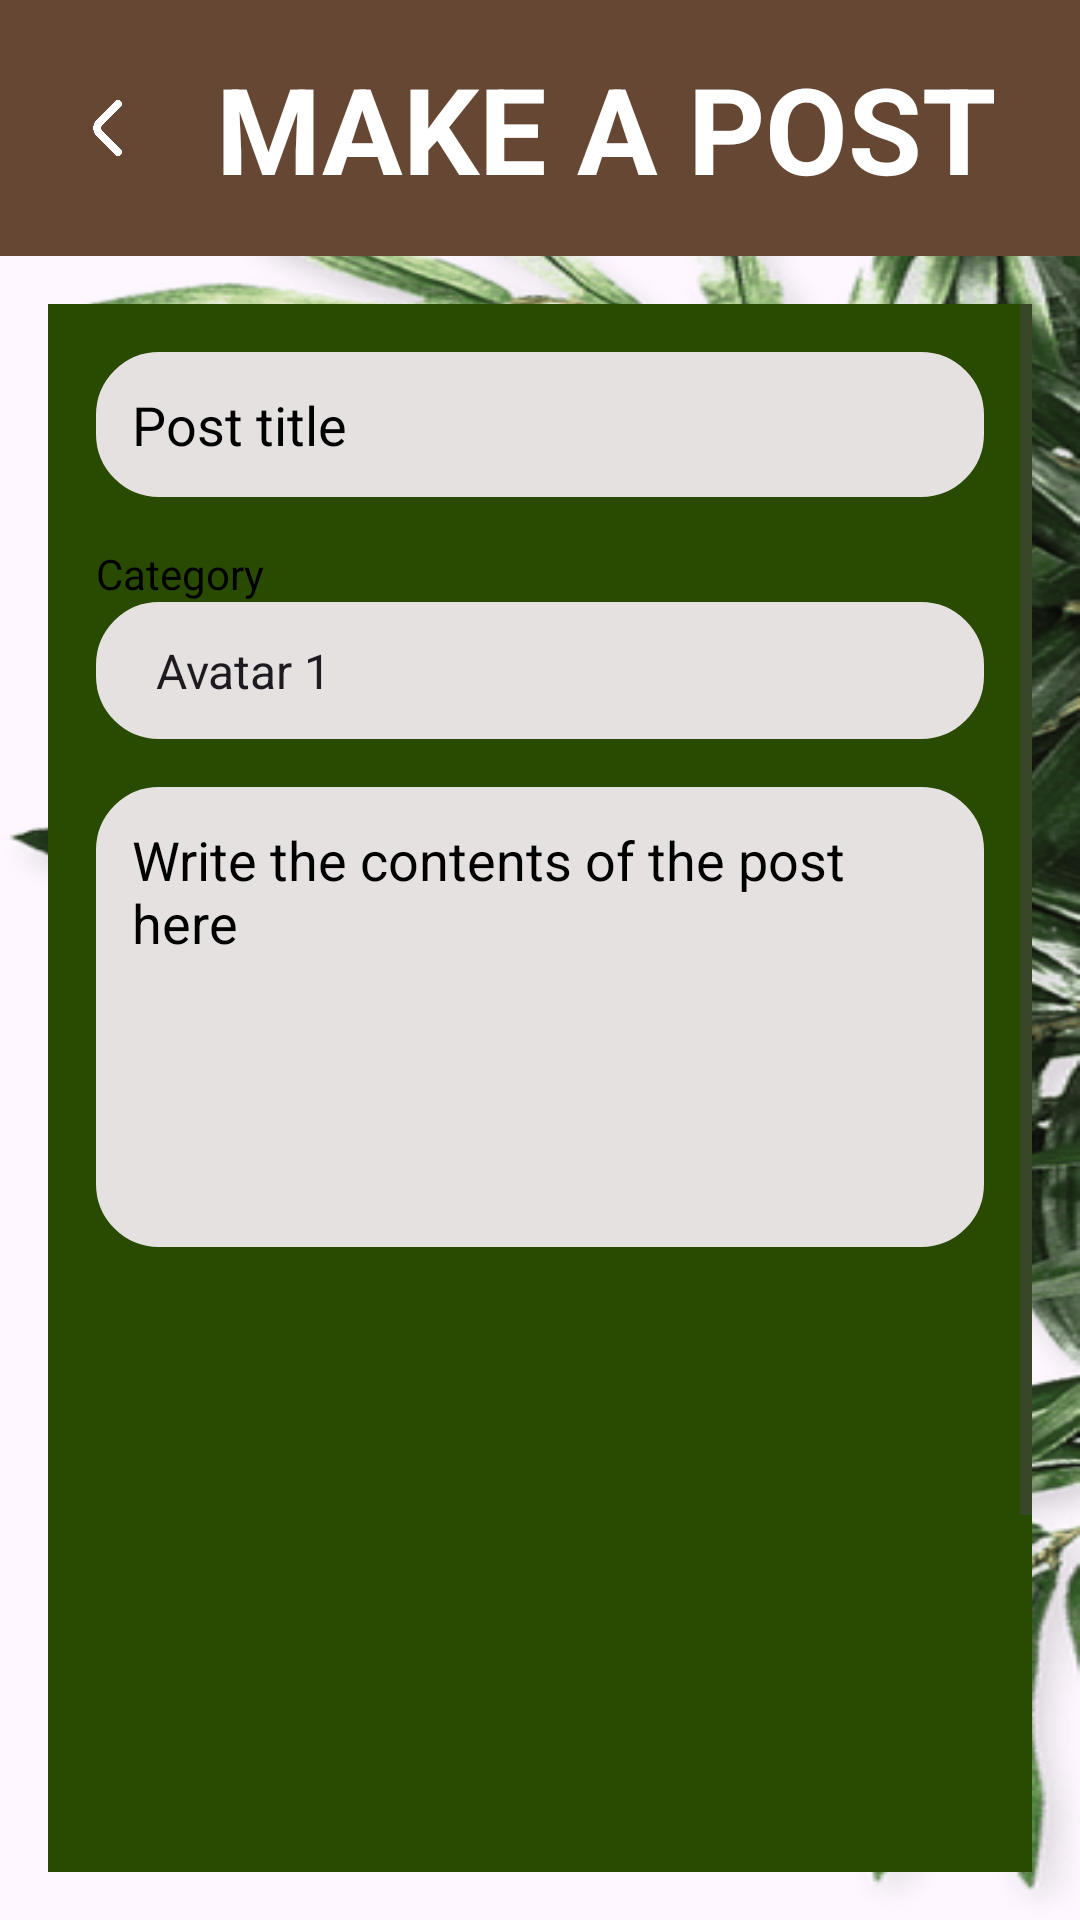

Icons on this 1080*1920 Android screen, each with the point to tap as (x,y):
Back: (107,128)
